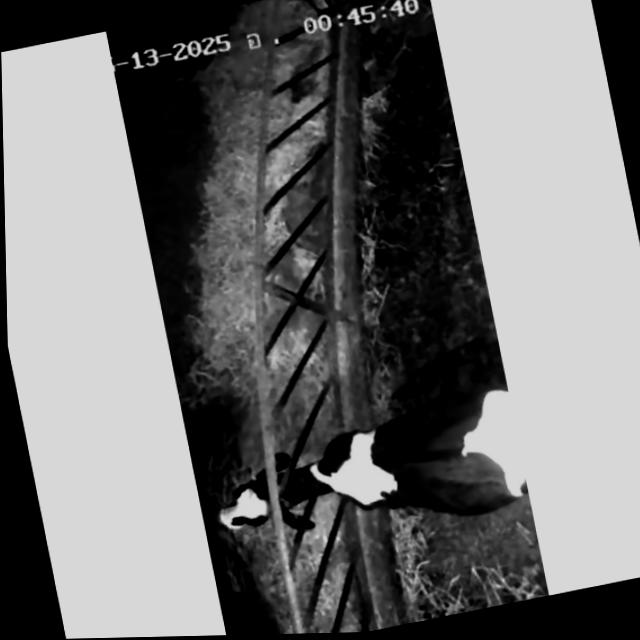eat: (186, 387, 441, 574)
